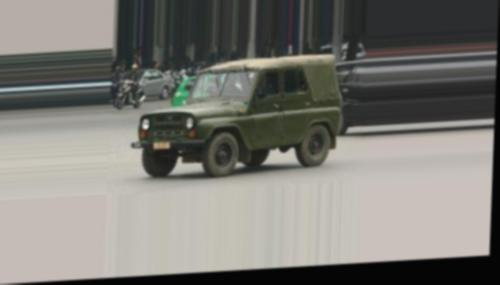License_Plate: (151, 140, 172, 151)
